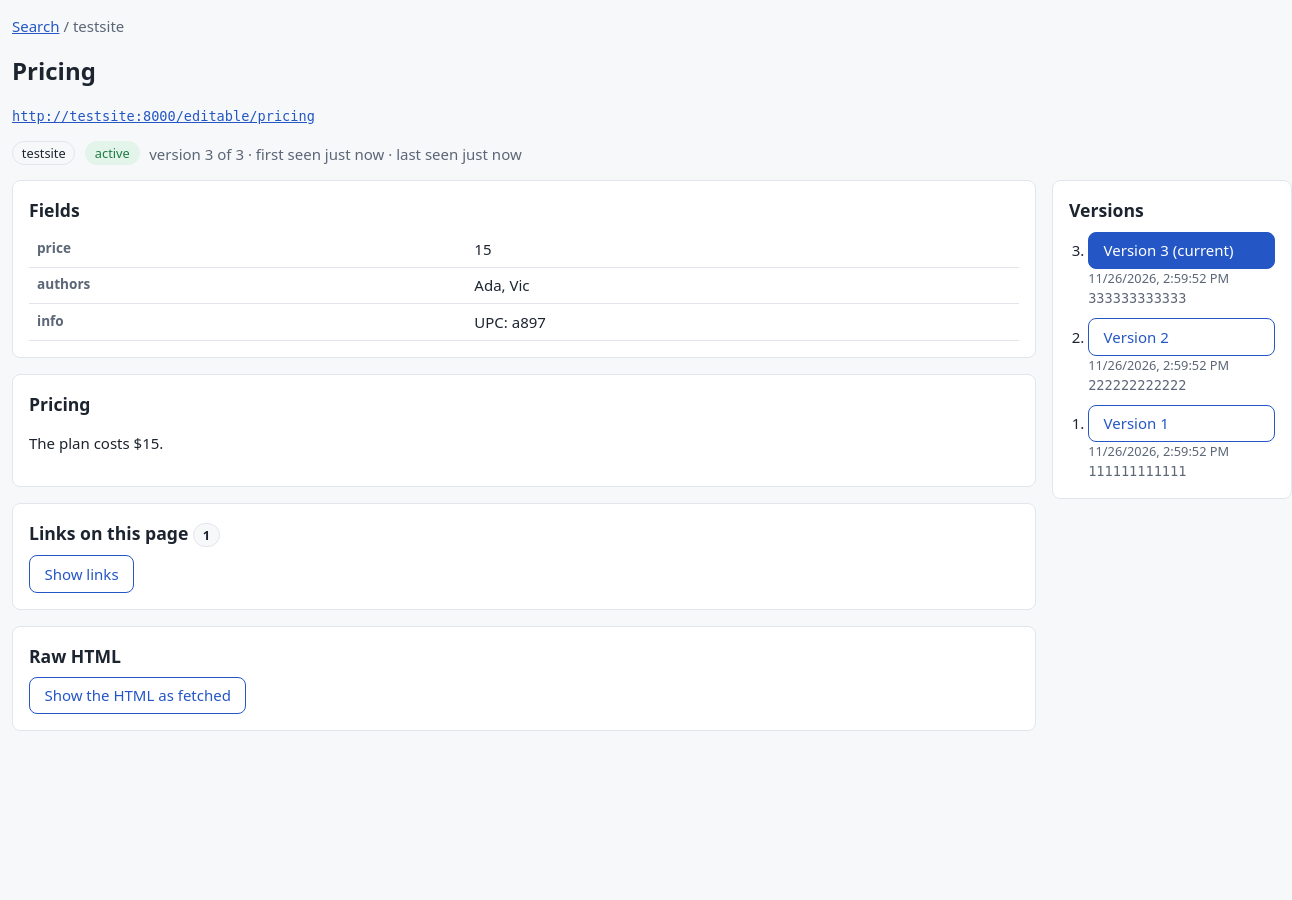
Test: Document page › lists every version and shows an old one with what changed
This screenshot has width=1292, height=900.
Click the button "Version 2" at (1182, 337), box [1088,318,1275,356]
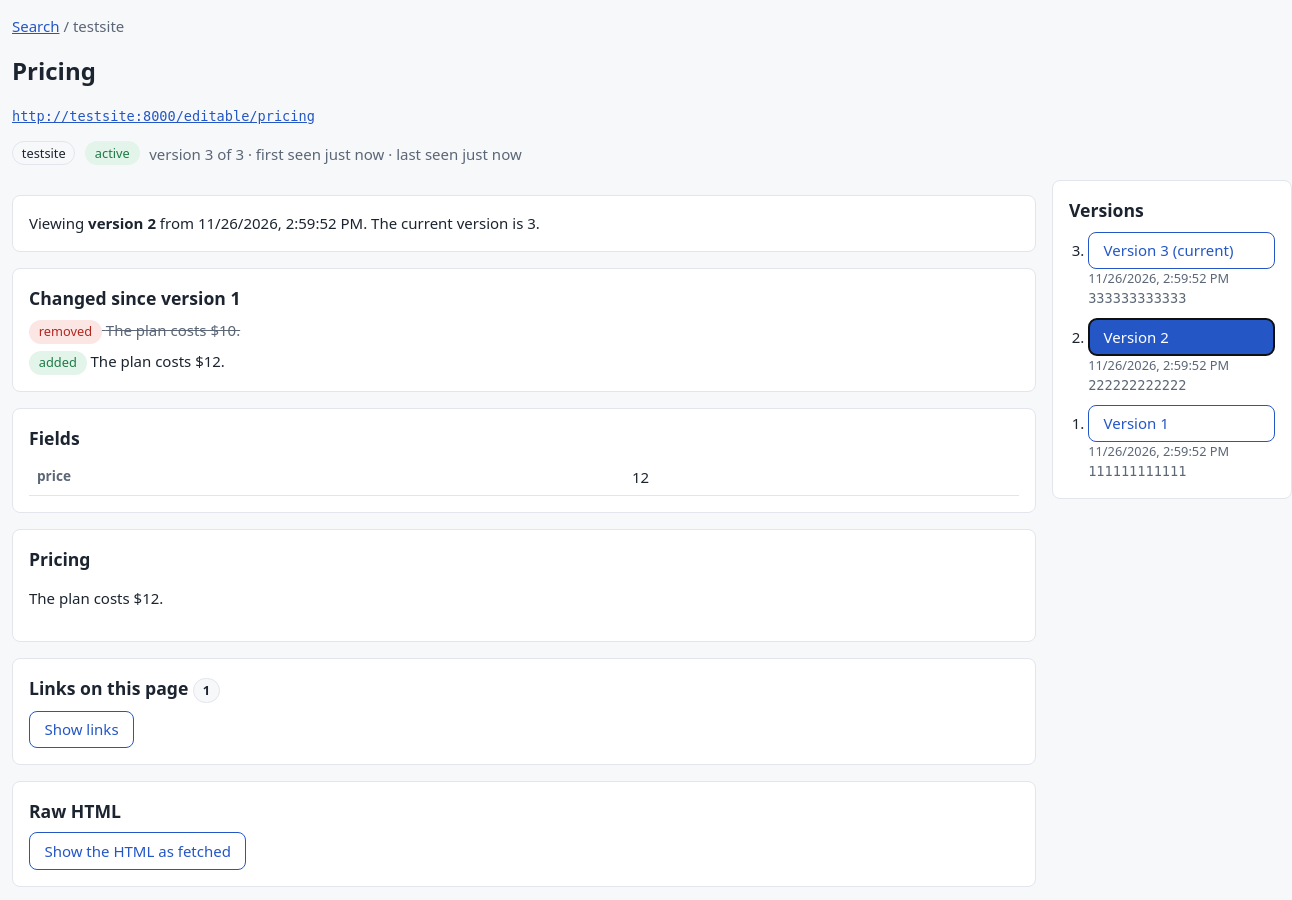
Expected: the text "Viewing version 2 from 11/26/2026, 2:59:52 PM. The current version is 3." is shown, [12,195,1036,252]
Expected: the heading "Changed since version 1" is shown, [29,286,240,310]
Click the button "Version 3 (current)" at (1182, 250), box [1088,232,1275,269]
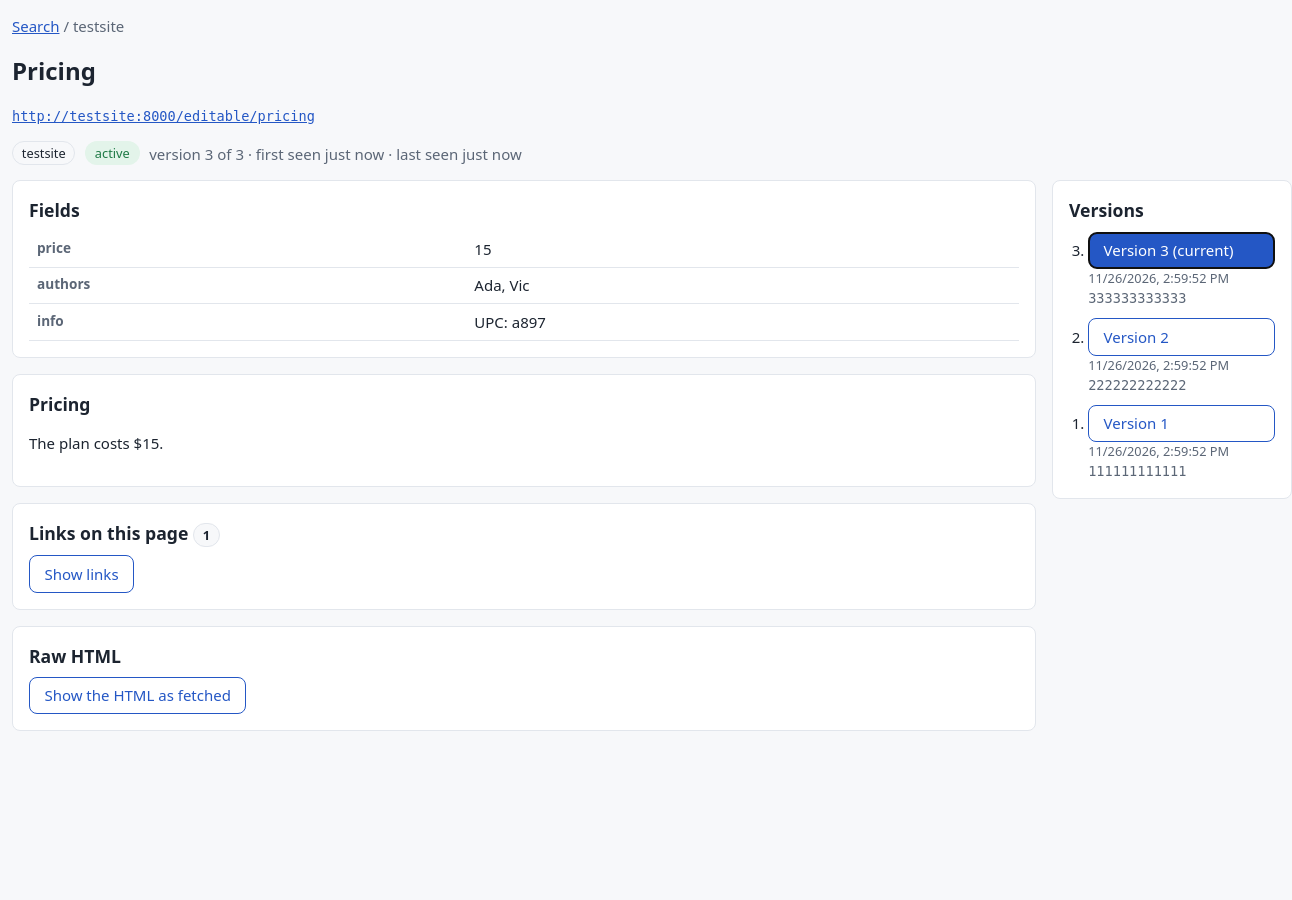
Expected: the text "Viewing" is gone
Expected: the text "The plan costs $15." is shown, [29,433,163,453]
